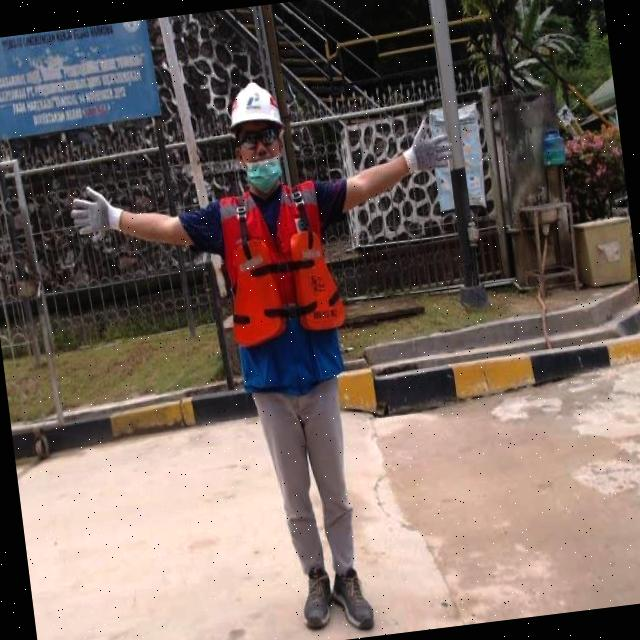boots: (326, 557, 381, 640), (296, 564, 341, 636)
